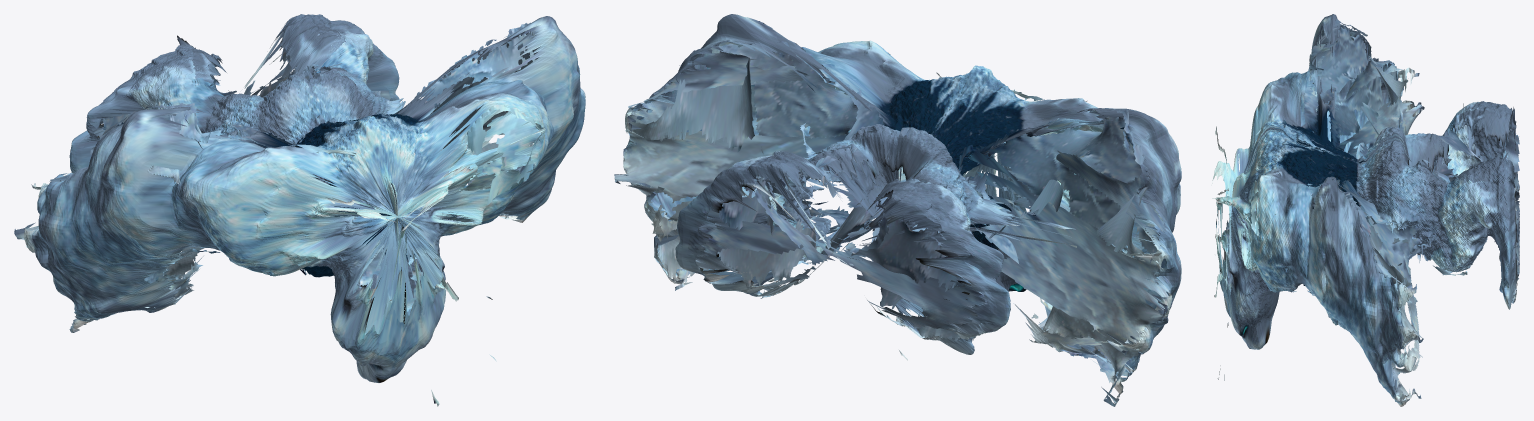
Rendered from detail_mesh.glb.
The picture shows the model from 3 angles, left to right: view 1: azimuth 30°, elevation 25°; view 2: azimuth 150°, elevation 25°; view 3: azimuth 270°, elevation 25°; orthographic projection. The views are drawn at different scales.
Parts seen in each view (by area): view 1: ipn, fill; view 2: fill, ipn; view 3: ipn, fill.
Boxes of the visible parts, x1,y1,x2,y2 form: ipn: [14, 14, 585, 406]; fill: [20, 21, 541, 324]; fill: [614, 21, 1169, 399]; ipn: [614, 14, 1181, 406]; ipn: [1211, 14, 1517, 406]; fill: [1223, 19, 1519, 400].
Size of the model in its own units: 1.94 by 1.03 by 1.09.
2 materials, 1 textured.
